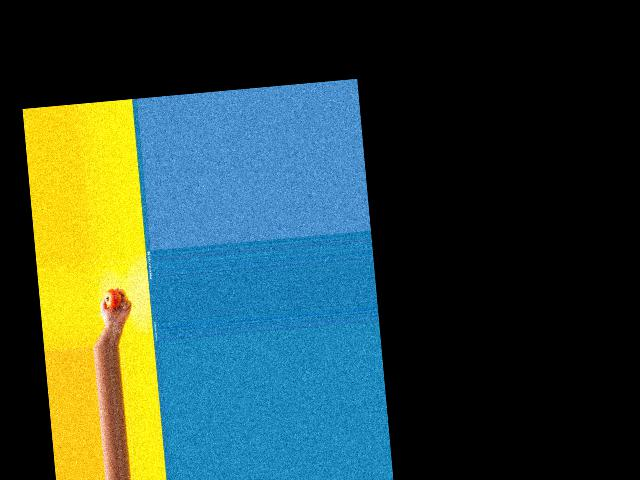tomato: (104, 288, 122, 309)
